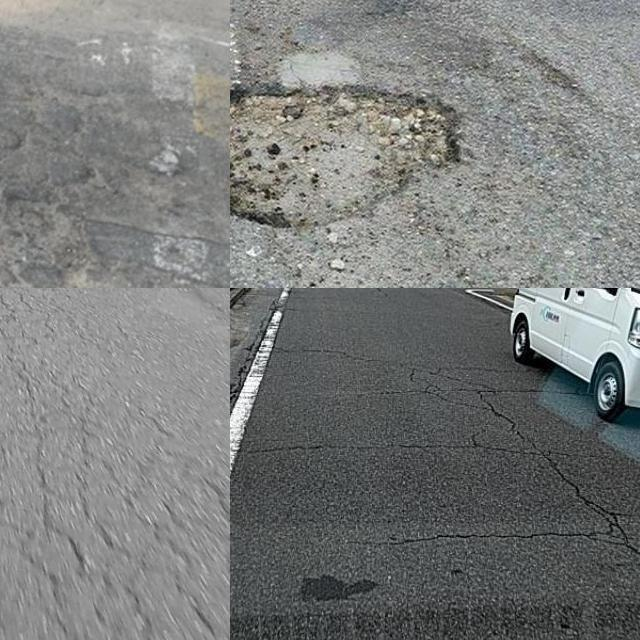Lubang: (230, 85, 458, 227)
Melintang: (243, 430, 550, 461), (370, 522, 613, 554)
Memanjang: (461, 389, 640, 577)
Retak Buaya: (0, 478, 230, 640)
